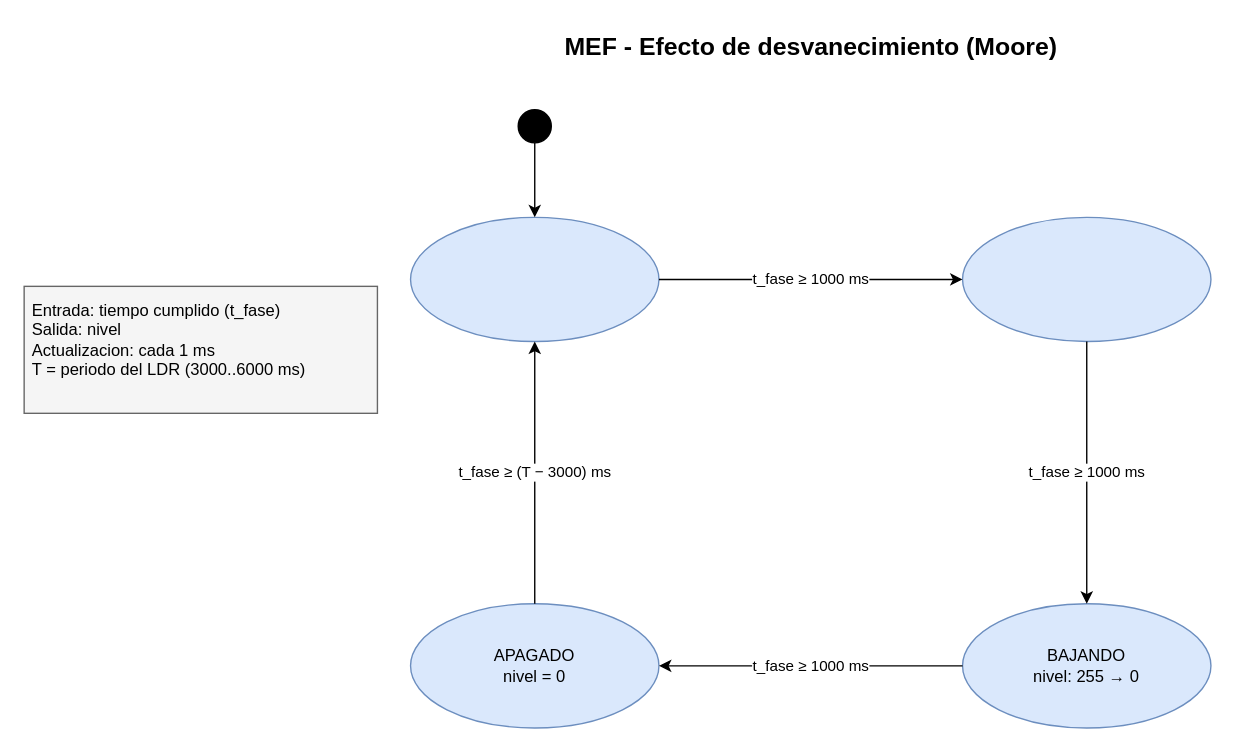
This 1235x752 diagram has some shape labels left out. The centre of each missing label's shape, as x and y in pixels:
MANTENIENDO nivel = 255: point (1086, 279)
SUBIENDO nivel: 0 → 255: point (534, 279)
